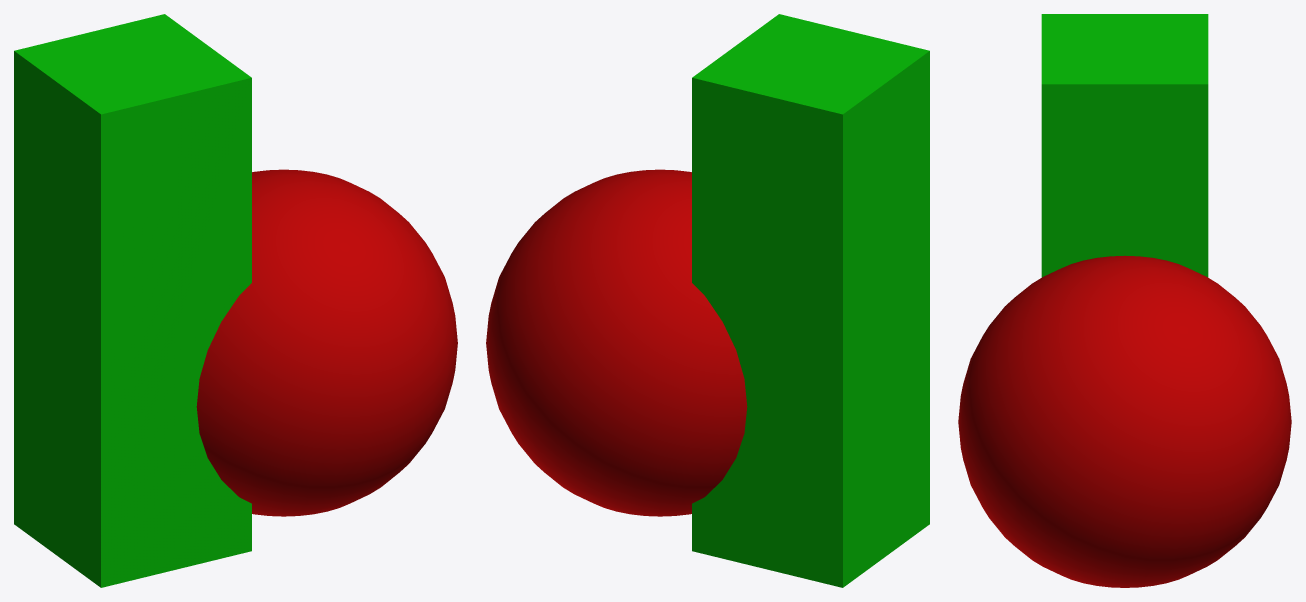
Rendered from msft_lod_test.glb.
3 views of the same model, side by side, from view 1: azimuth 30°, elevation 25°; view 2: azimuth 150°, elevation 25°; view 3: azimuth 270°, elevation 25° (orthographic). The views are drawn at different scales.
Visible parts, largest first — view 1: sphere1_merged; view 2: sphere1_merged; view 3: sphere1_merged.
Boxes of the visible parts, x1,y1,x2,y2 form: sphere1_merged: (14,14,457,587); sphere1_merged: (486,14,929,587); sphere1_merged: (958,14,1291,587).
Size of the model in its own units: 2.5 by 3 by 2.
